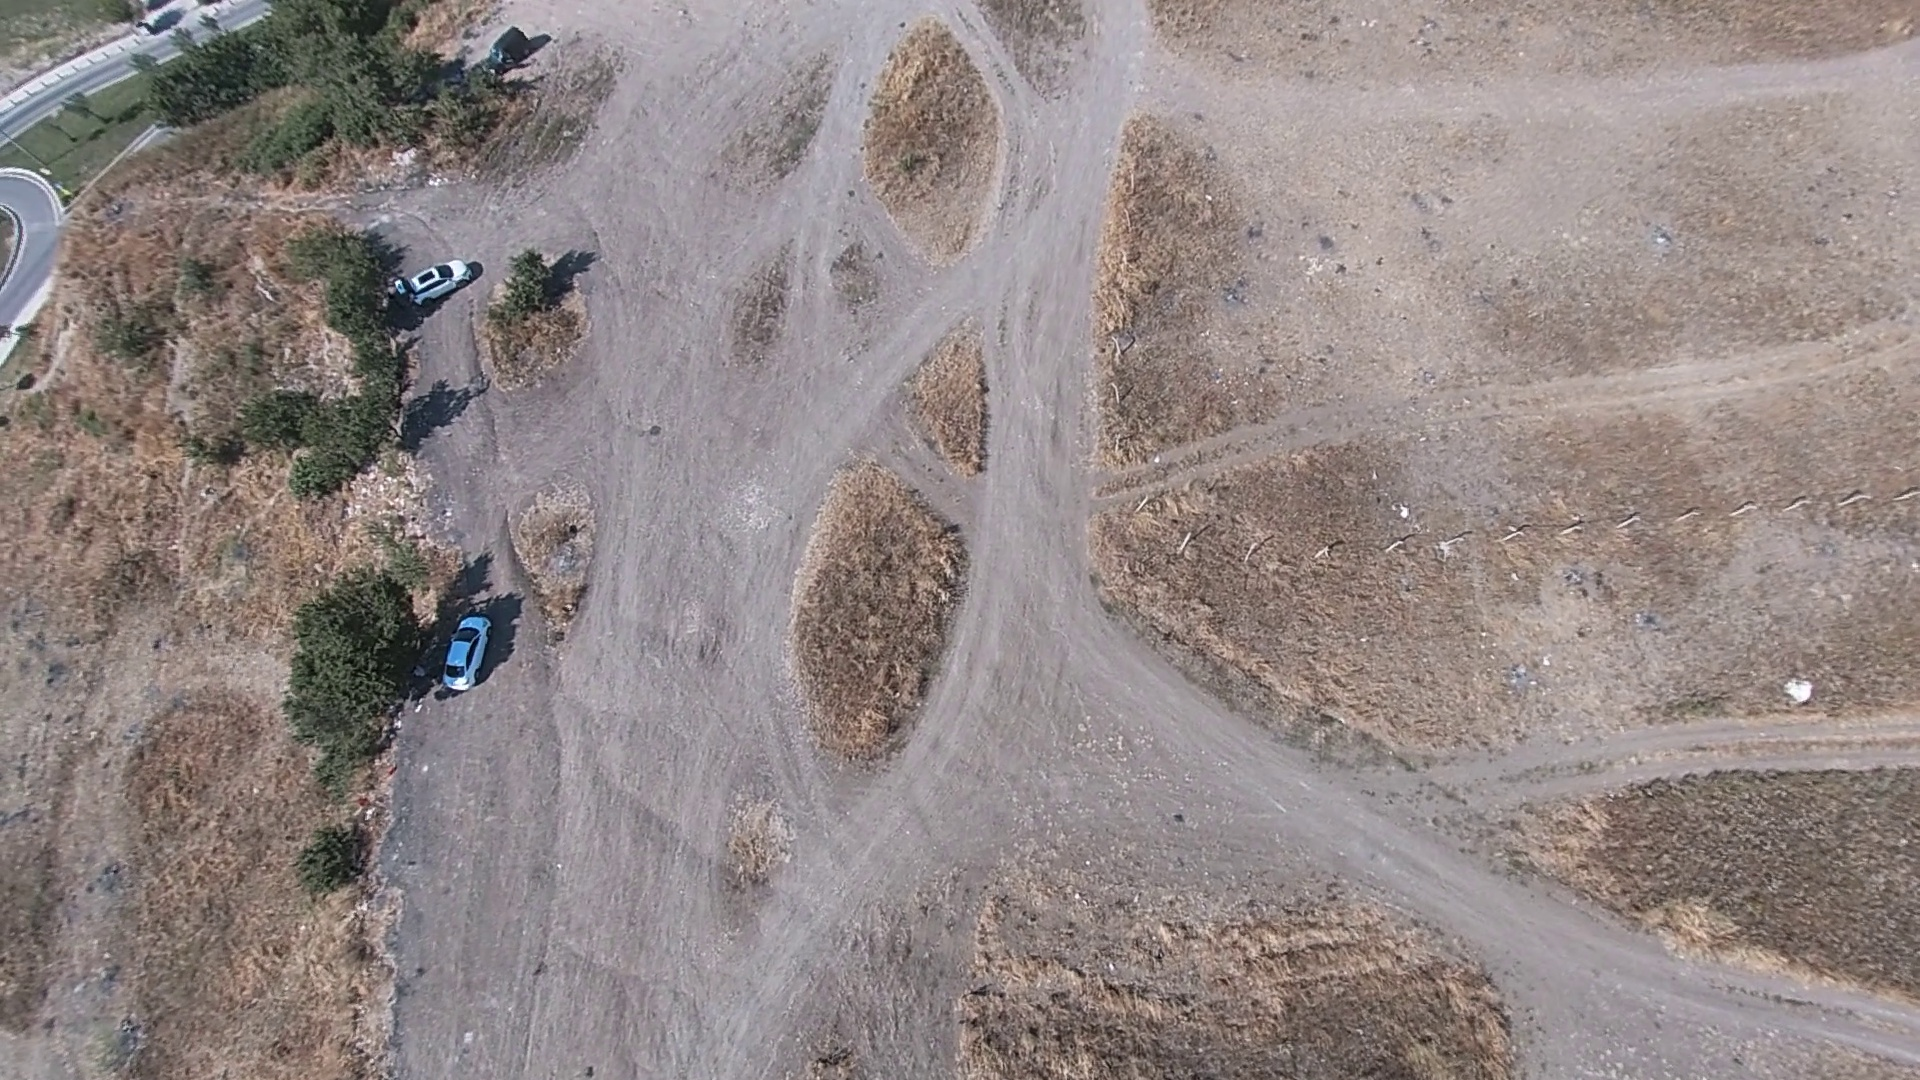araba: (386, 253, 483, 310), (438, 613, 488, 694), (480, 24, 529, 84)
